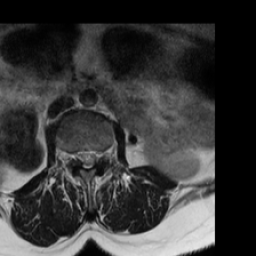CCS_normal: (83, 141, 90, 176)
LFS_stenosis: (98, 141, 106, 168)
LLS_normal: (90, 141, 98, 169)
RFS_stenosis: (67, 143, 75, 169)
RLS_normal: (75, 143, 83, 169)
